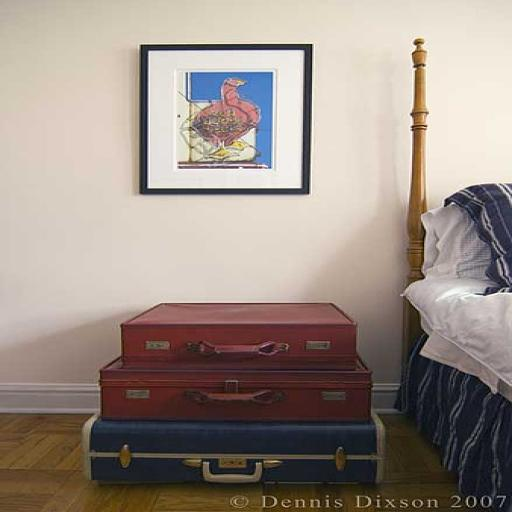bed: (382, 33, 511, 512)
